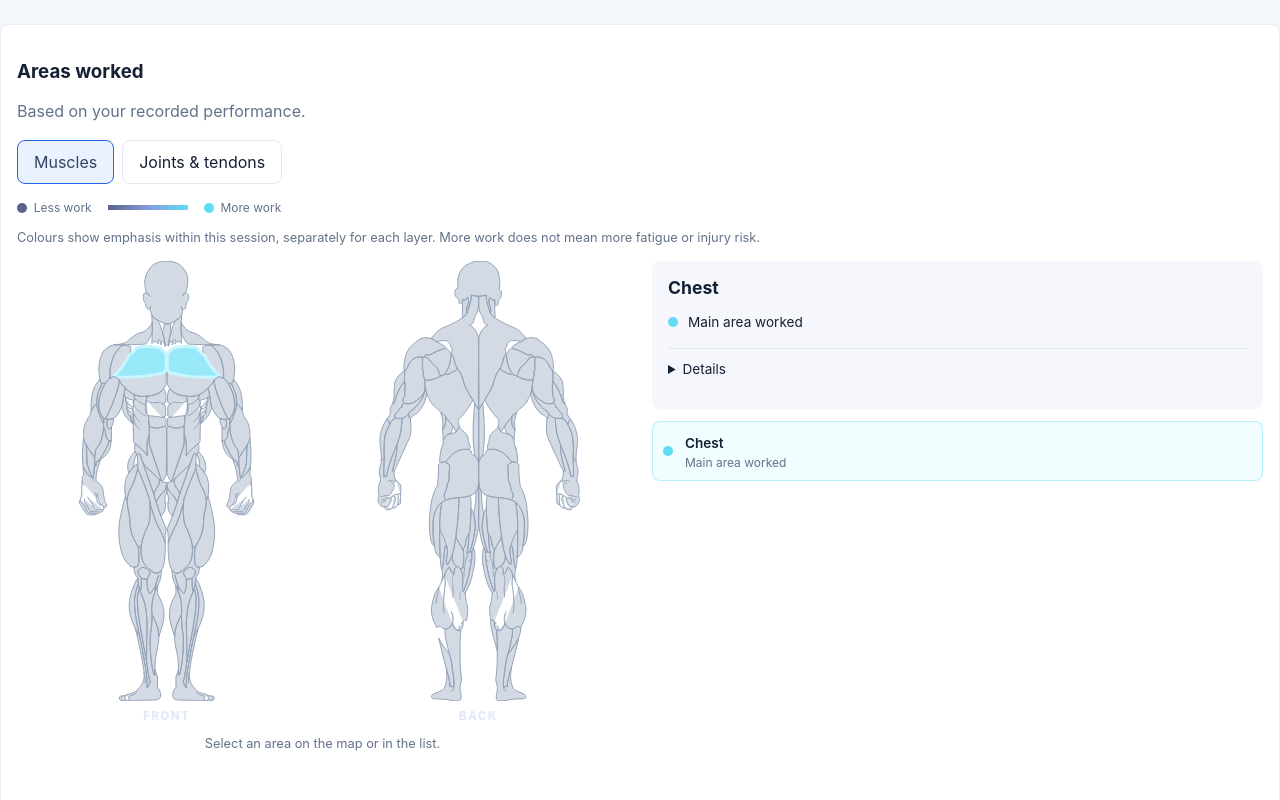
Test: completed workout impact › uses stored performed loads including partial completion and substitutions without a planned preview
Check: the heading "Areas worked" is shown, box x1=17 y1=60 x2=144 y2=83
Check: the heading "Chest" is shown, box x1=668 y1=277 x2=719 y2=298
Click the heading "Details" at (704, 369), box x1=682 y1=361 x2=726 y2=377
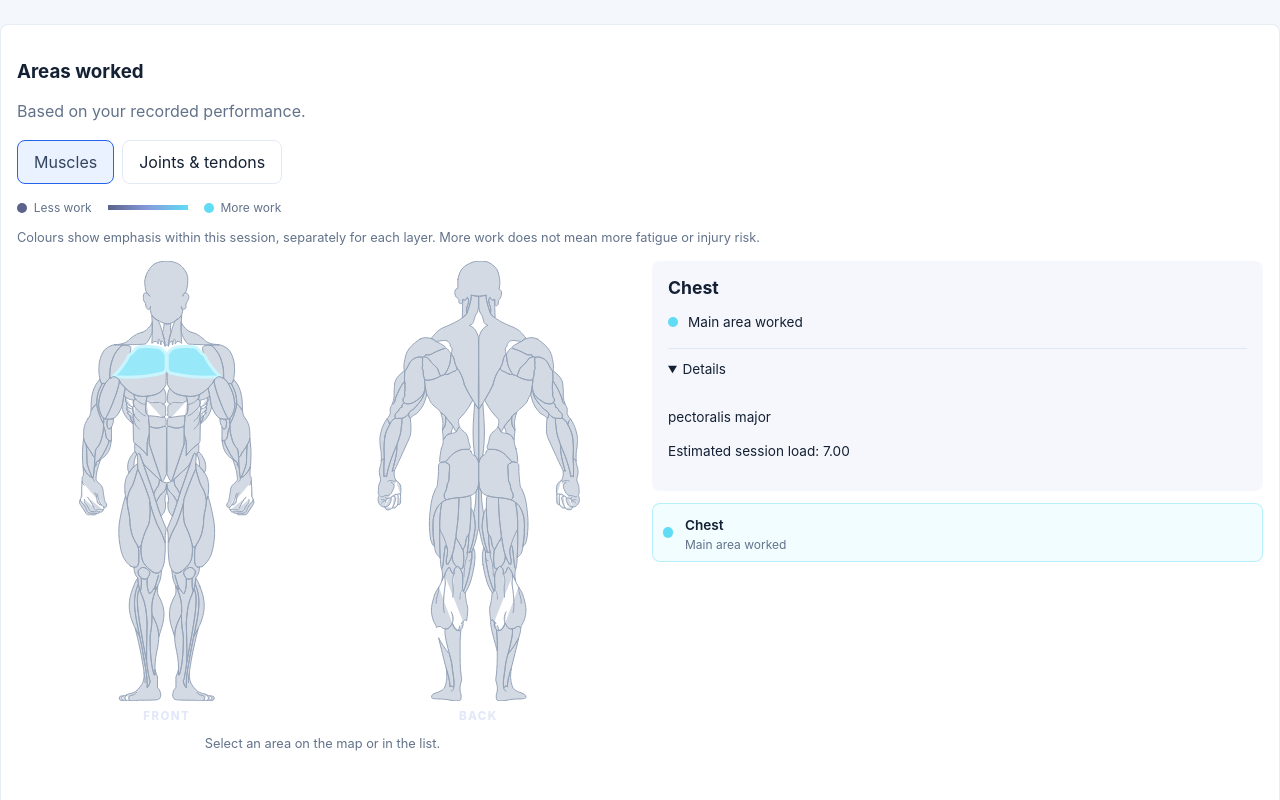
Check: the text "Estimated session load: 7.00" is shown, box x1=668 y1=443 x2=850 y2=459
